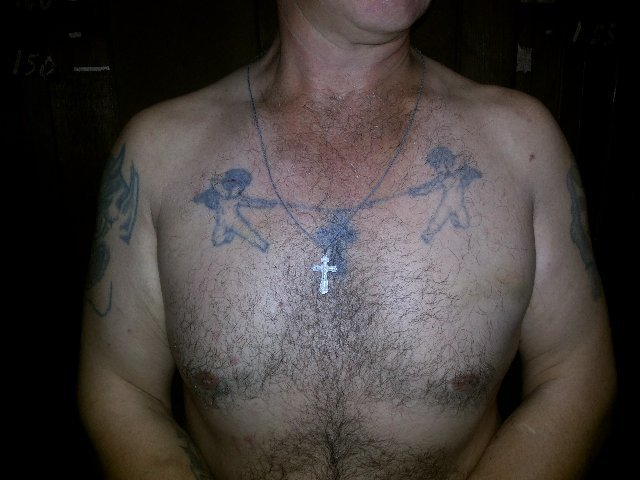tatu1_angel: (187, 164, 290, 262), (404, 147, 492, 251)
